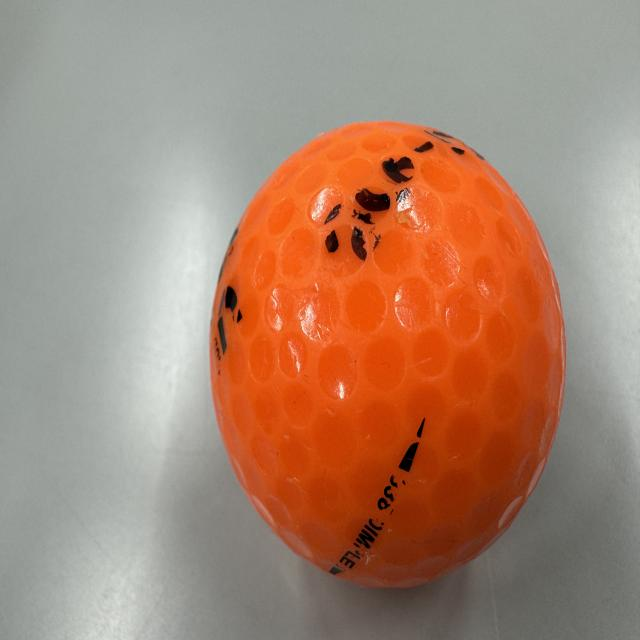ball: (208, 121, 571, 597)
